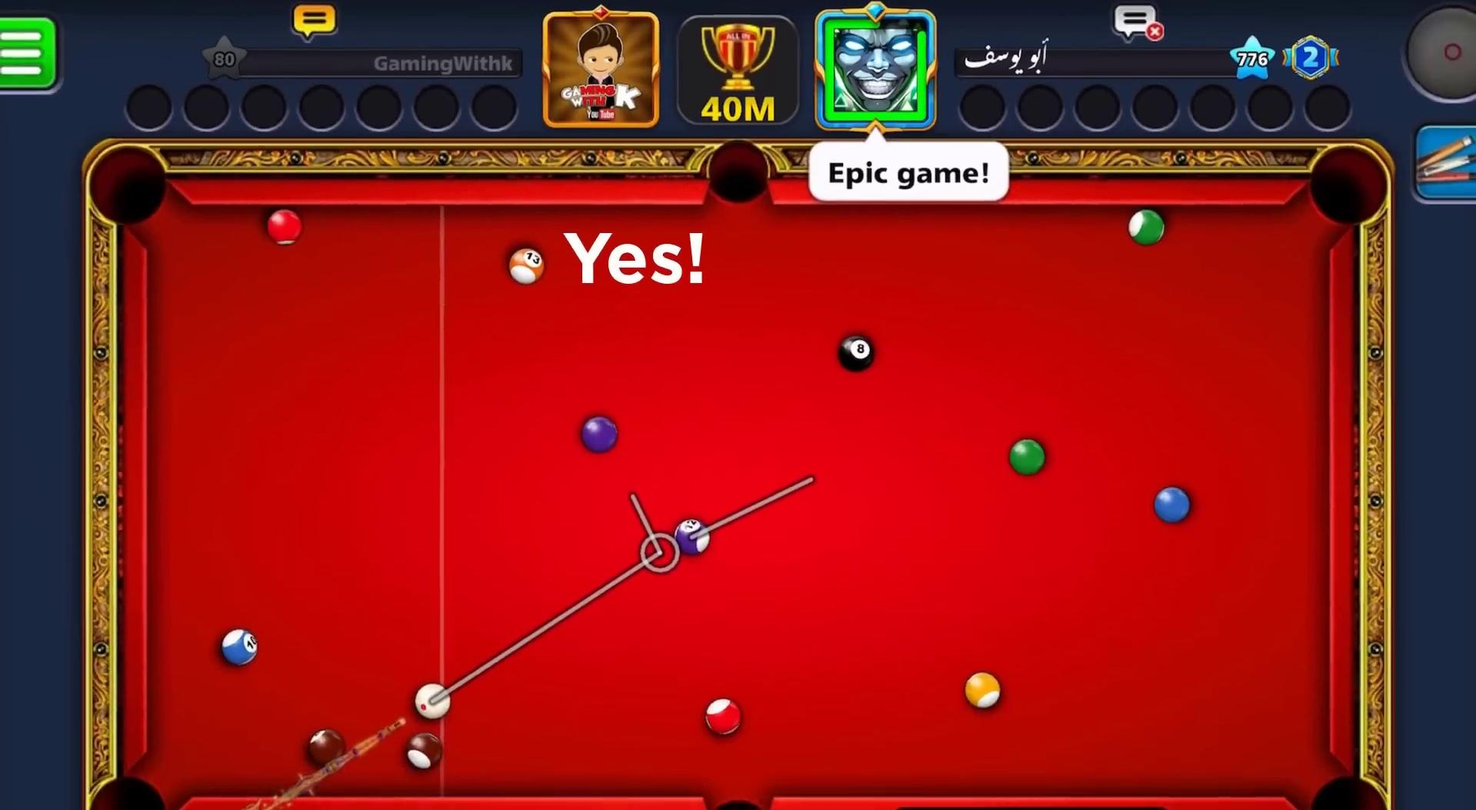Ball: (699, 686, 747, 745), (257, 207, 314, 256), (1144, 485, 1204, 531), (961, 666, 1009, 720), (398, 723, 447, 775), (577, 409, 625, 457), (215, 619, 262, 666), (508, 238, 546, 296), (307, 718, 348, 770), (1123, 207, 1170, 252), (835, 327, 878, 376), (1006, 437, 1050, 480), (671, 514, 713, 557)
Guideline: (431, 485, 669, 705), (711, 467, 824, 535), (639, 533, 685, 576)
Hole: (1308, 140, 1391, 238), (88, 144, 168, 230), (86, 738, 175, 810), (1298, 758, 1386, 810)
Play_Area: (147, 205, 1330, 797)
Spin: (1405, 5, 1476, 109)
White: (410, 676, 458, 724)
